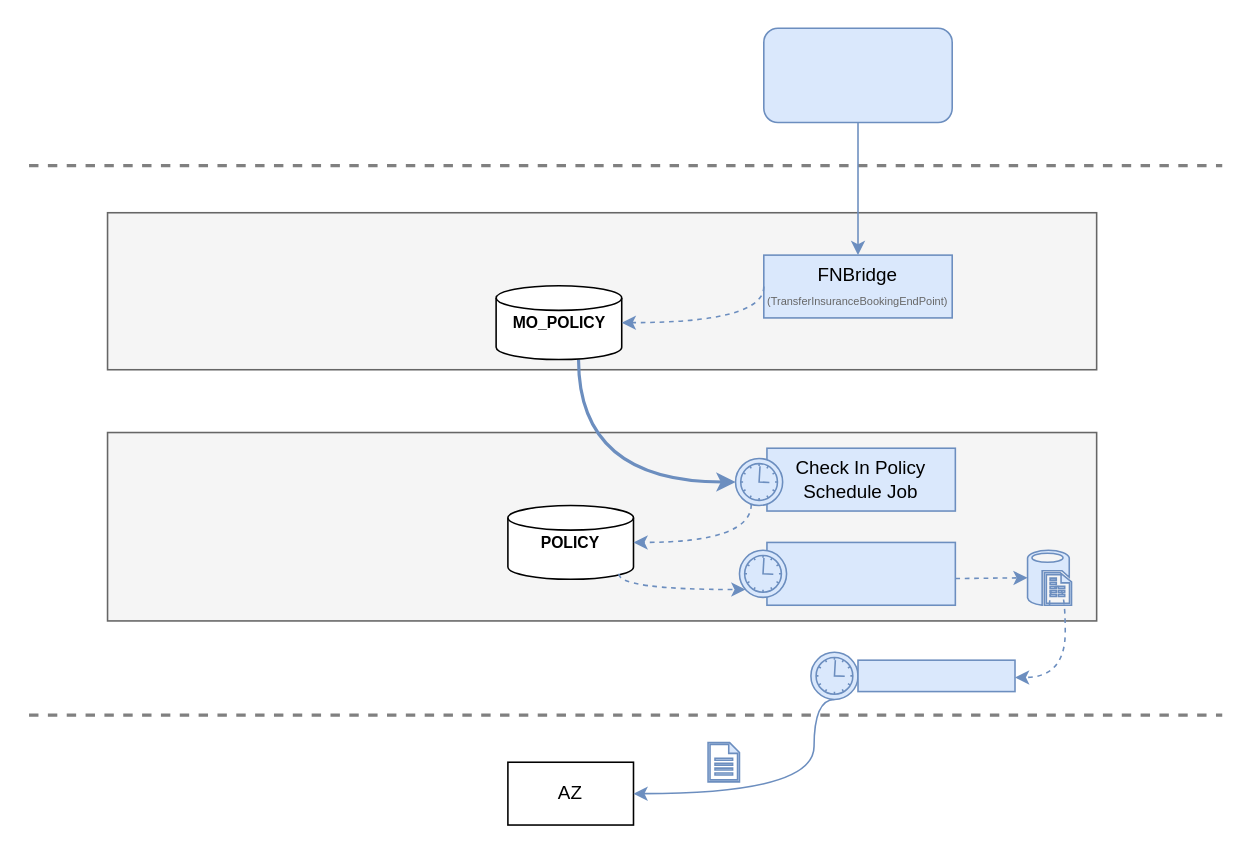
Some shapes in this 1251 by 853 pixel diagram are drawn without their labels. Each missing label, with the box of its shape:
E-margin: (762, 27, 952, 122)
Generate report daily Job: (765, 541, 955, 605)
Kettle Daily Job: (856, 659, 1015, 692)
